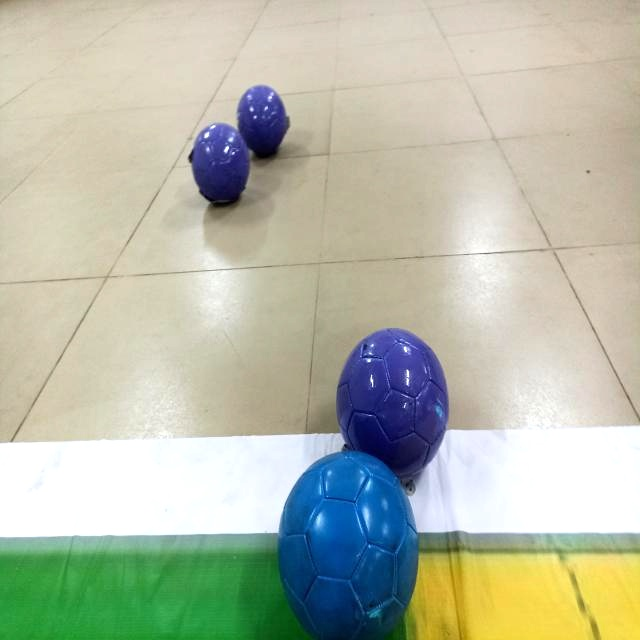blue_ball: (281, 451, 421, 634)
purple_ball: (334, 328, 451, 481), (193, 124, 252, 203), (237, 85, 288, 153)
